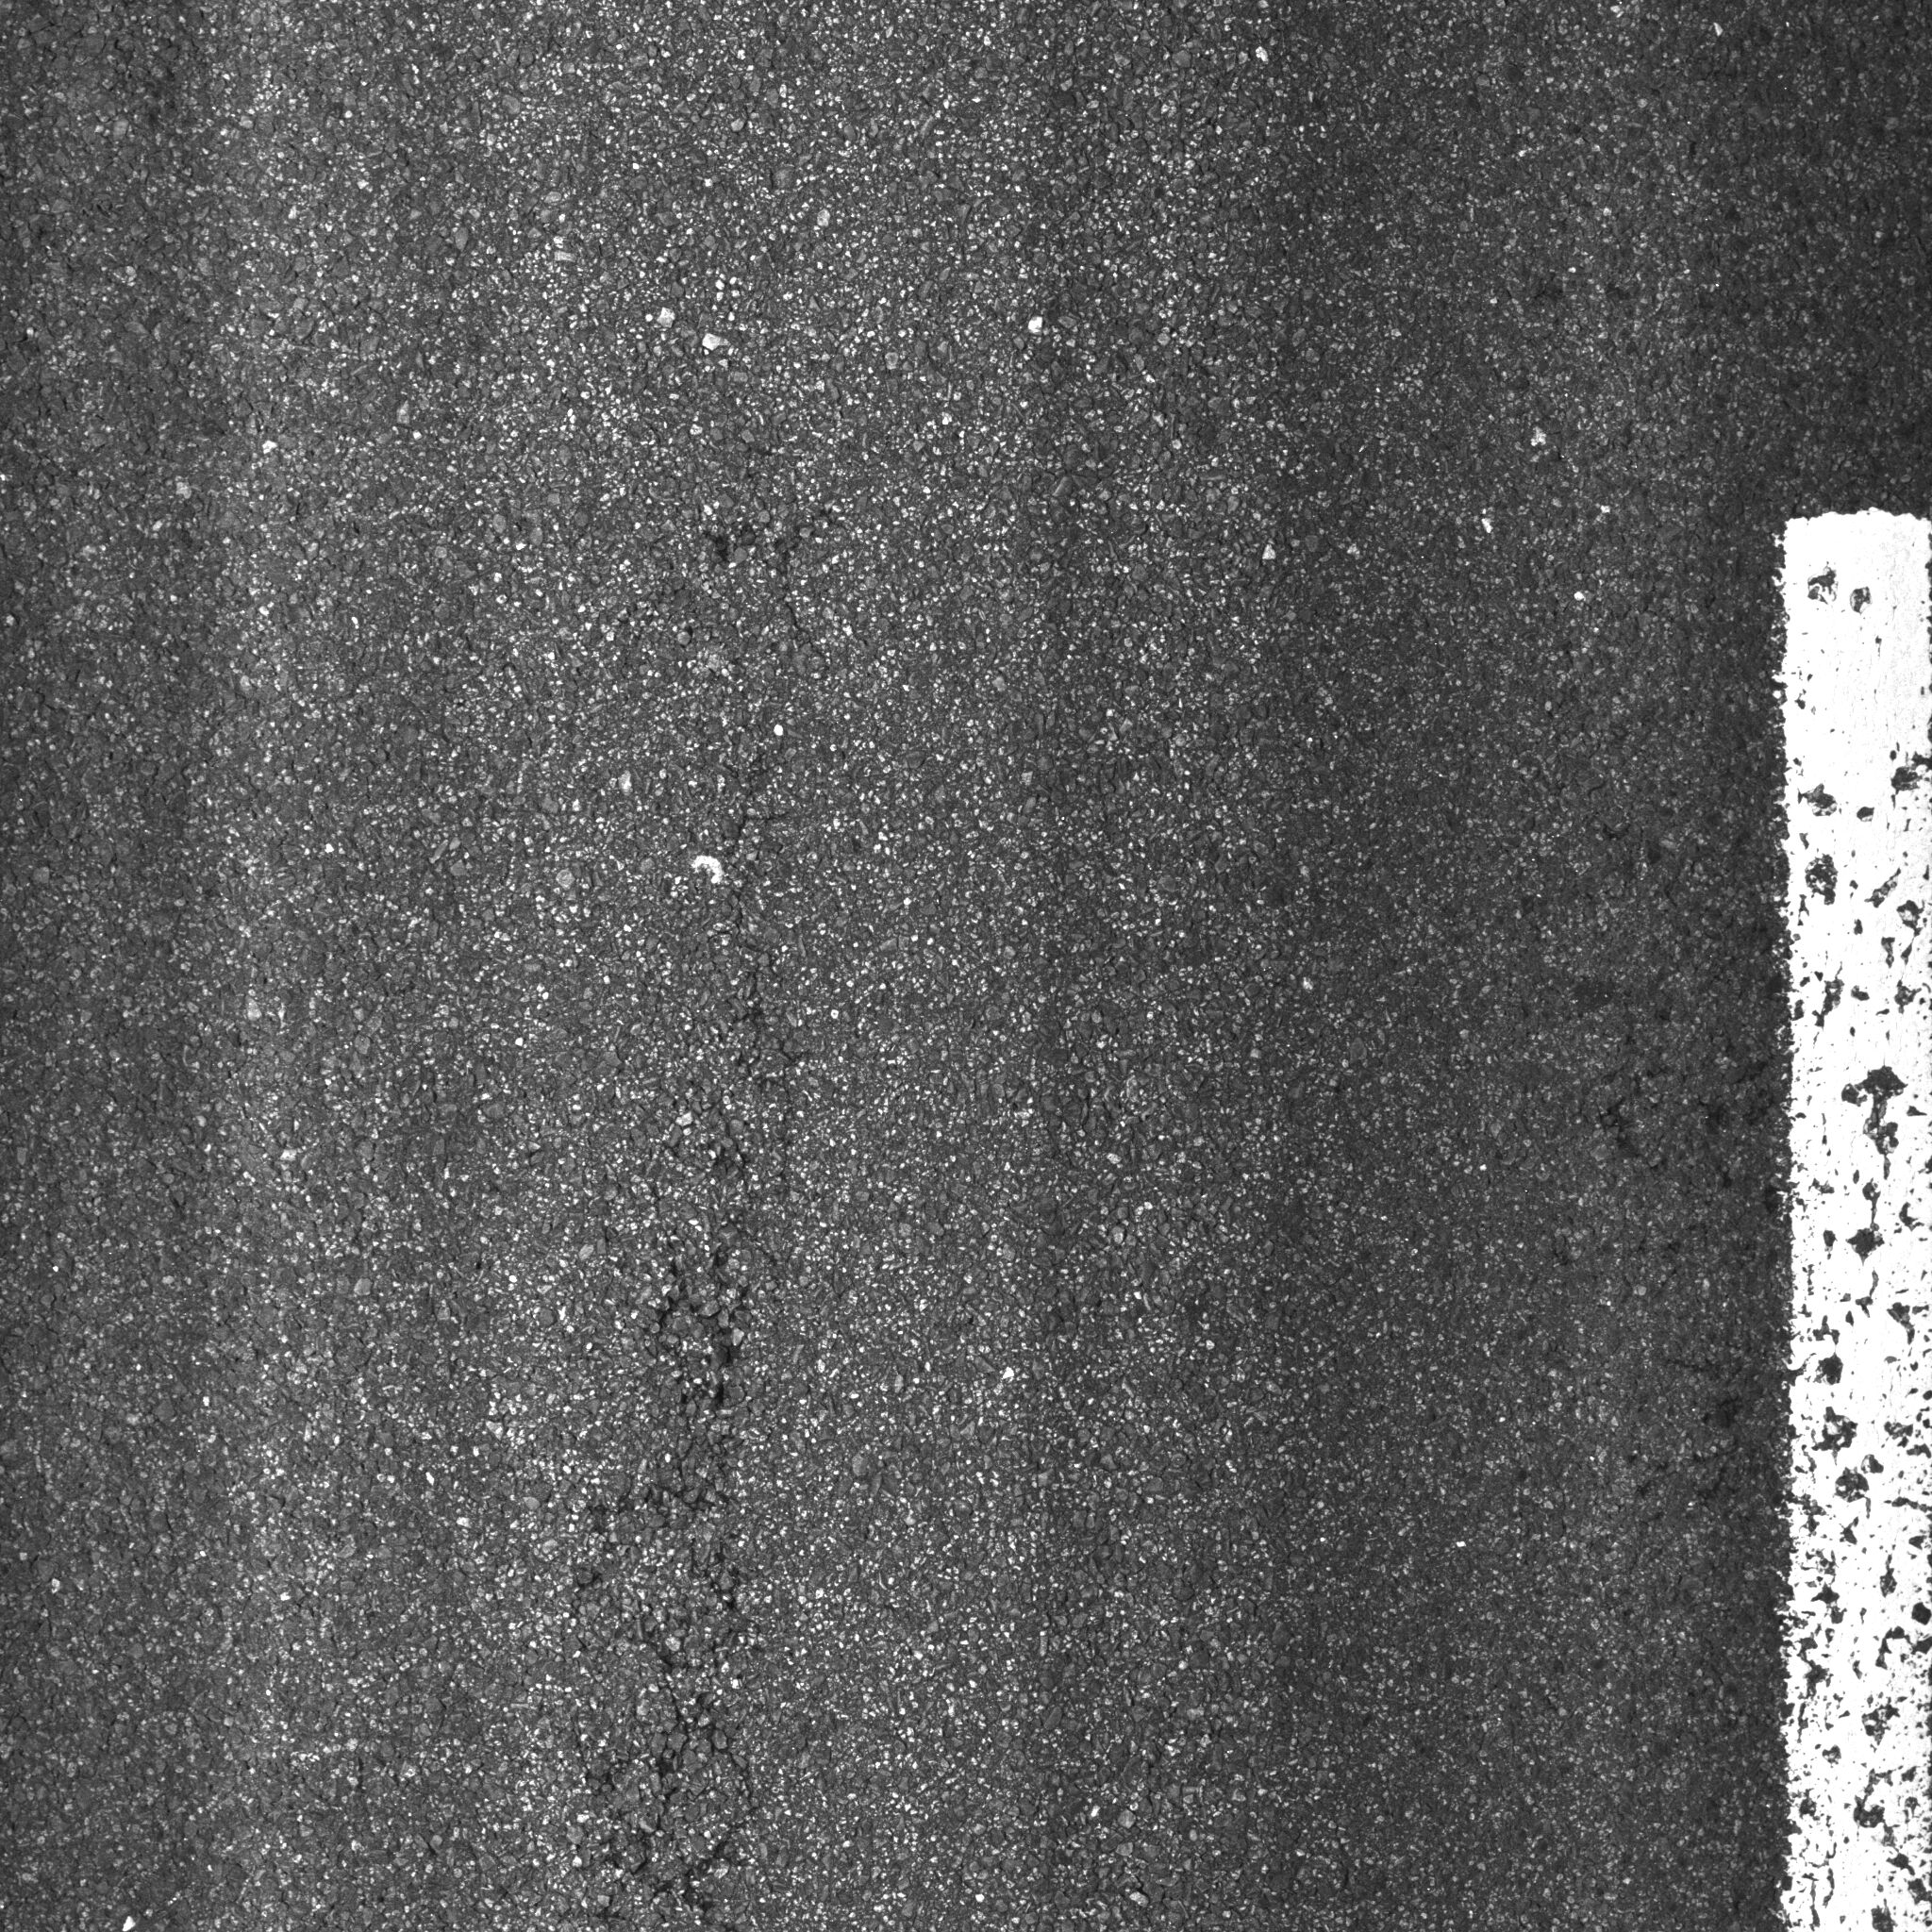longitudinal: (589, 453, 844, 1928)
